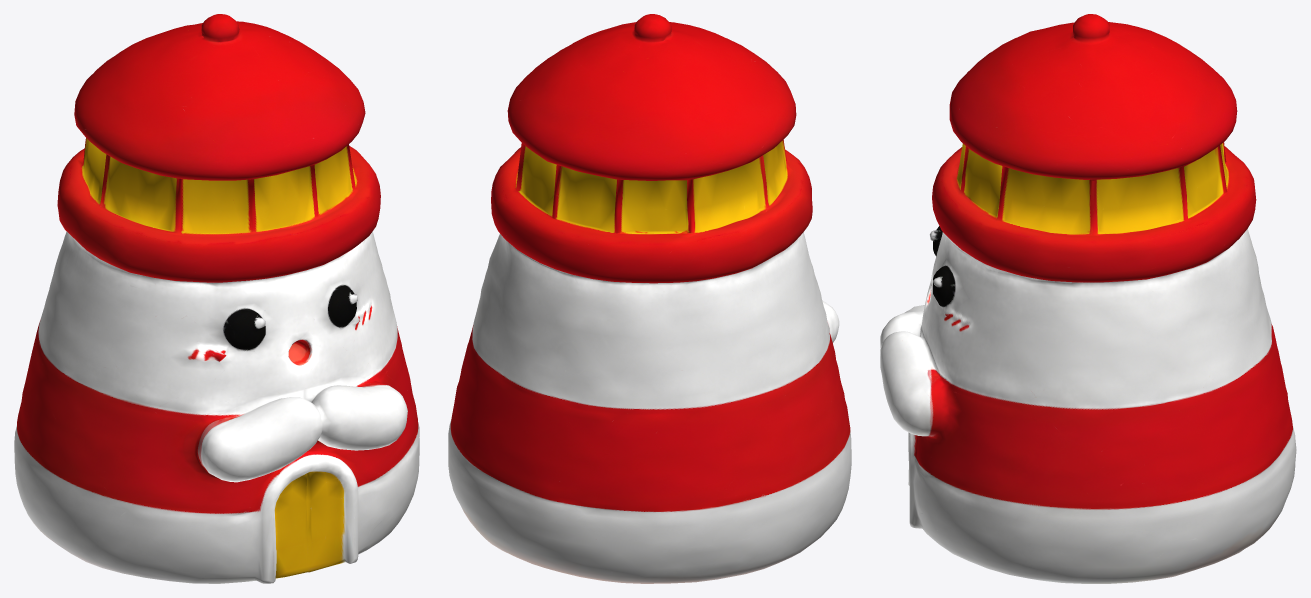
Rendered from lumi.glb.
The picture shows the model from 3 angles, left to right: view 1: azimuth 30°, elevation 25°; view 2: azimuth 150°, elevation 25°; view 3: azimuth 270°, elevation 25°; orthographic projection.
Size of the model in its own units: 1.41 by 1.91 by 1.46.
1 material, 1 textured.
